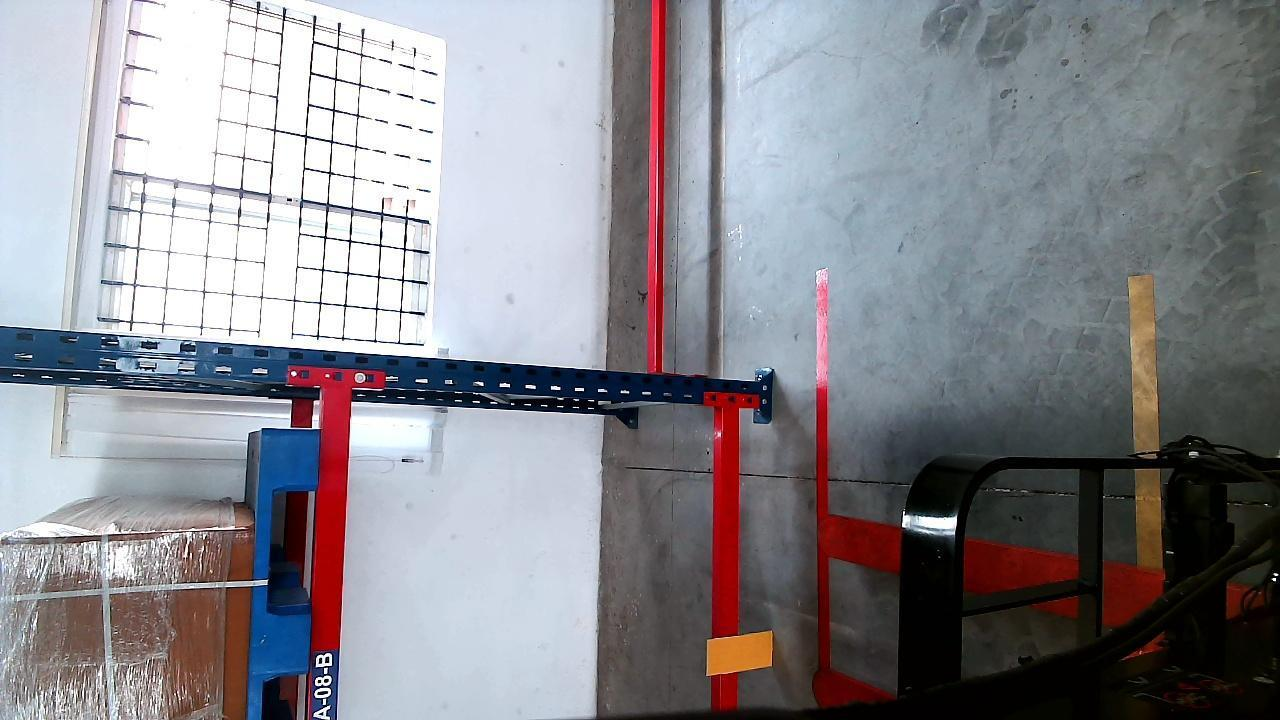h_rack: (310, 394, 355, 720), (713, 403, 744, 712)
orange_strip: (709, 630, 776, 674)
red_line: (809, 270, 838, 717)
small_pallet: (247, 428, 321, 720)
yellow_line: (1132, 254, 1161, 610)
